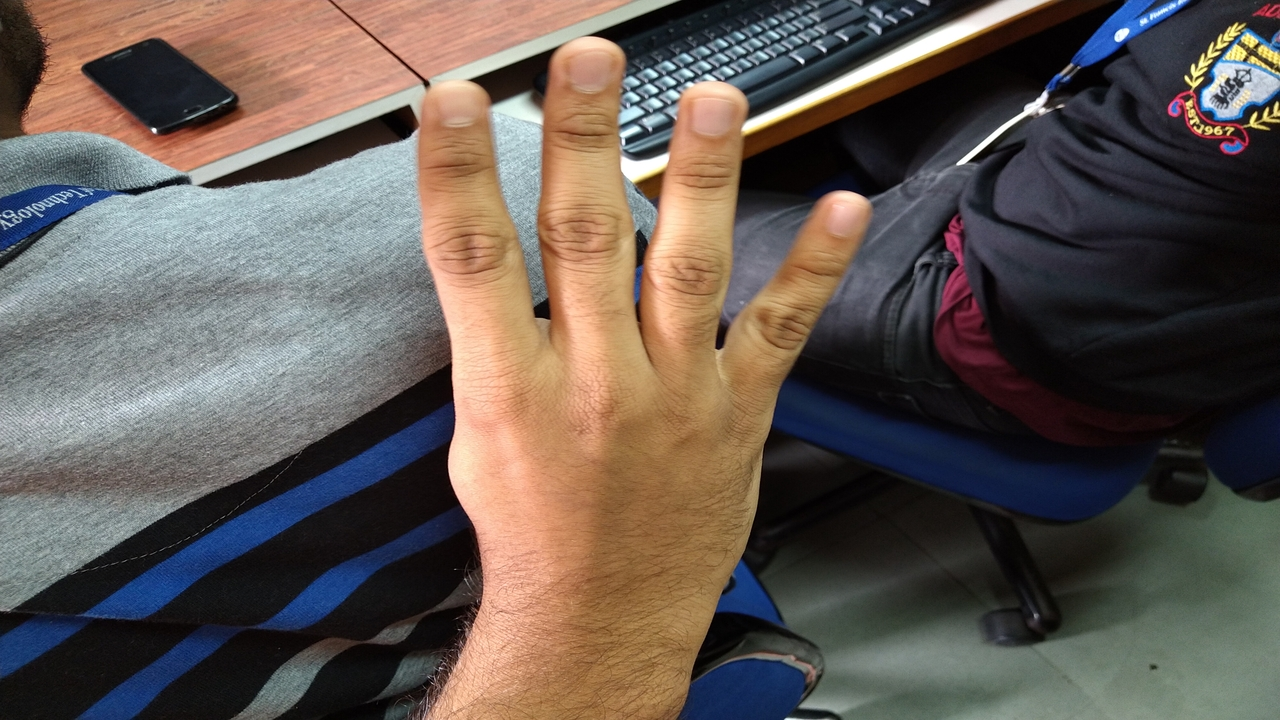fingertip: (410, 70, 494, 138), (804, 176, 882, 244), (546, 28, 622, 92), (676, 76, 746, 144)
